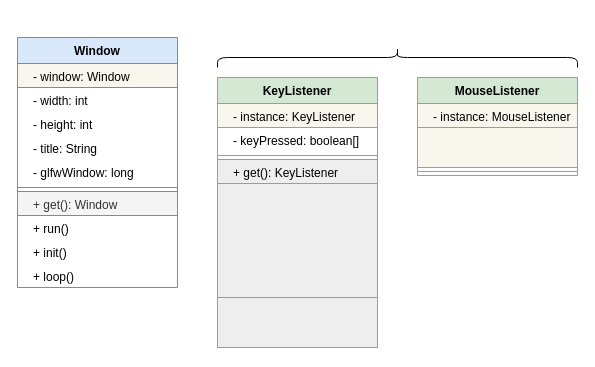
Image size: 595x367. Some labels were removed from this diagram. Here are the shapes that lost their labels. From the top down, the centre of each, then its label:
At pixel 397 57: "Input".
At pixel 497 147: "- mouseButtonPressed: boolean[]".
At pixel 297 240: "+ keyCallback( window: long, key: int, scancode: int, action: int, mods: int, )".
At pixel 297 322: "+ iskeyPressed( keyCode: int, ): boolean".
